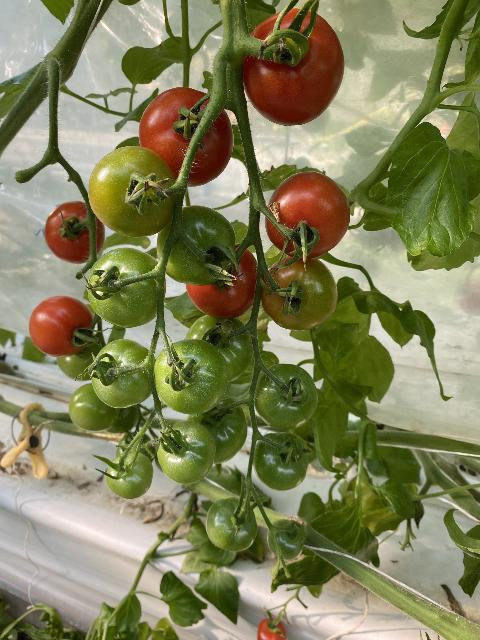l_fully_ripened: (243, 8, 345, 126), (139, 87, 234, 187), (265, 171, 350, 260), (185, 242, 262, 318), (29, 295, 94, 358), (44, 200, 106, 264)
l_green: (88, 146, 178, 239), (87, 247, 167, 329), (157, 205, 236, 285), (154, 338, 229, 415), (185, 315, 255, 382), (91, 338, 156, 408), (255, 363, 319, 430), (189, 398, 248, 464), (157, 420, 215, 484), (253, 432, 309, 491), (206, 497, 257, 552), (69, 383, 118, 432), (105, 452, 154, 500), (56, 336, 104, 380), (268, 519, 304, 560), (116, 432, 155, 463), (107, 405, 139, 433)
l_half_ripened: (261, 257, 338, 331)
